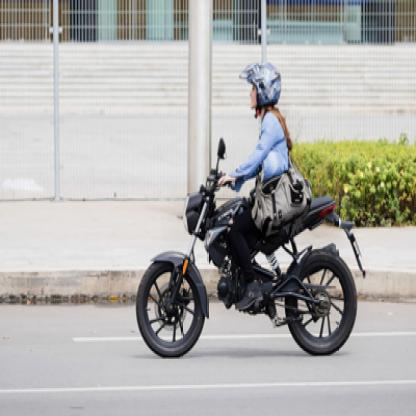Helmet: (233, 56, 288, 121)
